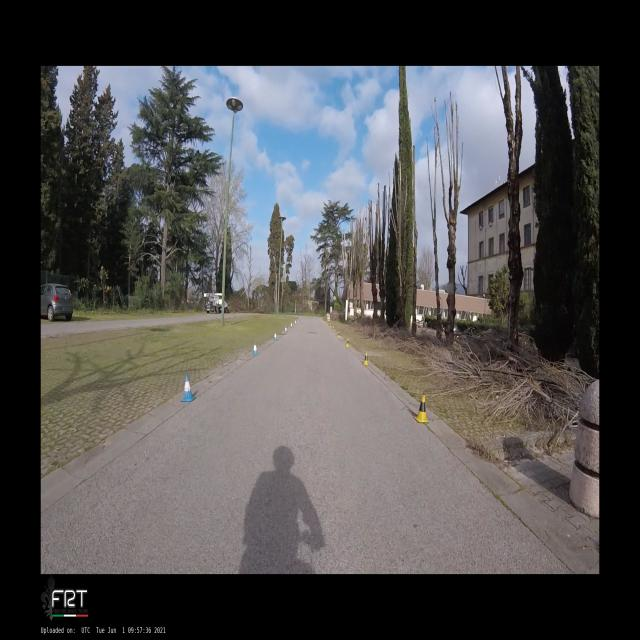blue_cone: (180, 373, 196, 402), (253, 342, 258, 354)
yellow_cone: (414, 394, 429, 423), (362, 352, 369, 366), (346, 338, 349, 348)
